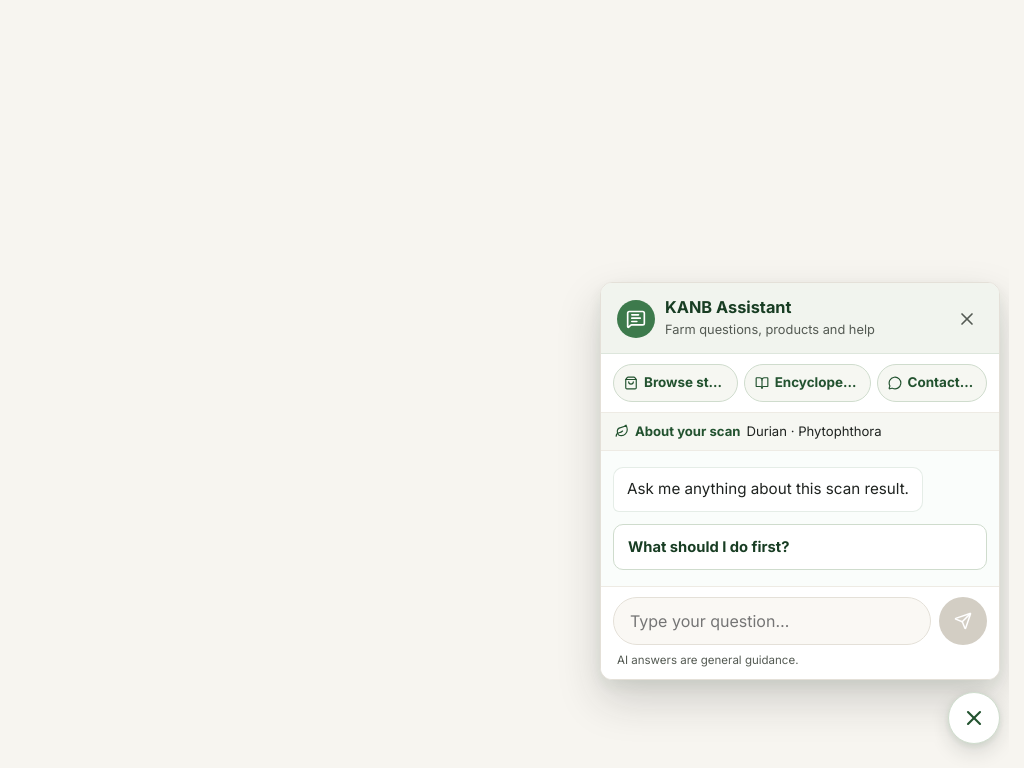
Test: AssistantWidget › opens from the results page and asks about the scan being viewed
expect the dialog is shown: met, box [600,282,1000,680]
expect the text "Durian · Phytophthora" is shown: met, box [746,421,882,442]
Click the button "What should I do first?". click: (709, 547)
box: [613,524,987,570]
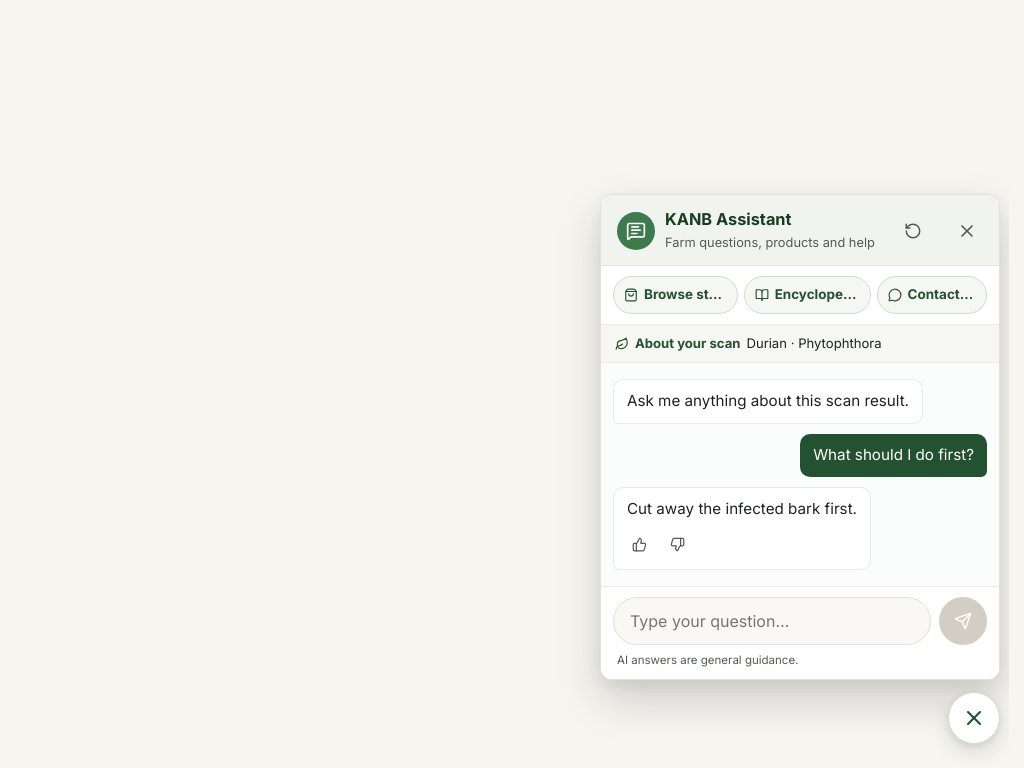
expect the text "Cut away the infected bark first." is shown: met, box [627,498,857,521]
